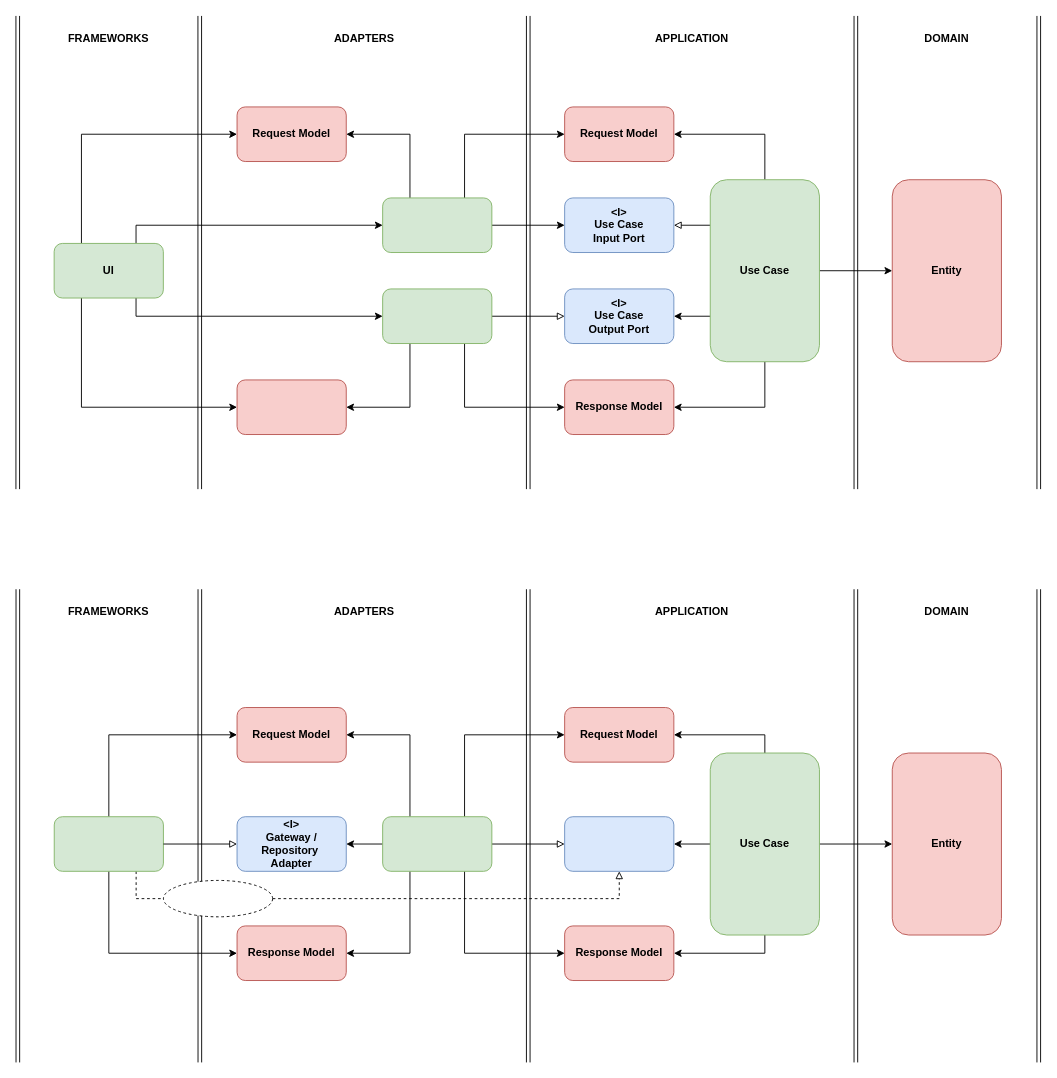
Image size: 1057x1078. Some labels were removed from this diagram. The shapes that lost their labels are listed below. From the top down, each one's centre as x and y in pixels, then its label:
pixel 437 225: Controller
pixel 437 316: Presenter
pixel 291 407: Presentable Model
pixel 108 843: Library
pixel 437 843: Gateway / Repository
pixel 619 843: <I> Use Case Service Port
pixel 218 898: IF simple service
